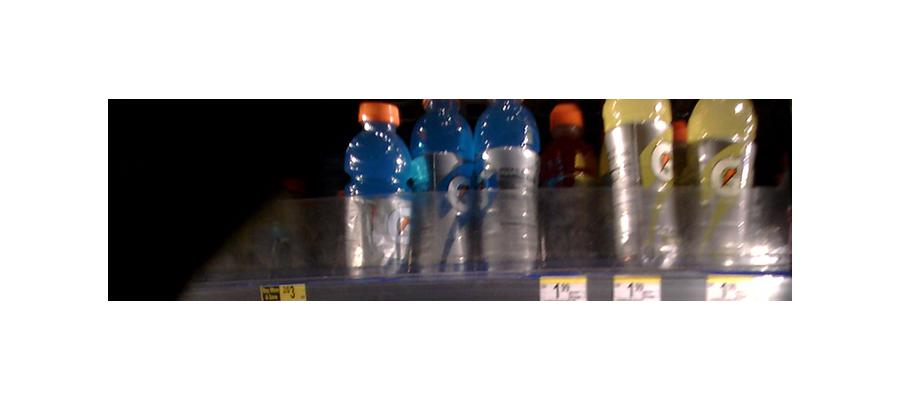bottle: (606, 94, 684, 268), (686, 94, 761, 265), (343, 97, 409, 280), (412, 93, 474, 278), (477, 99, 540, 278), (545, 99, 604, 269)
